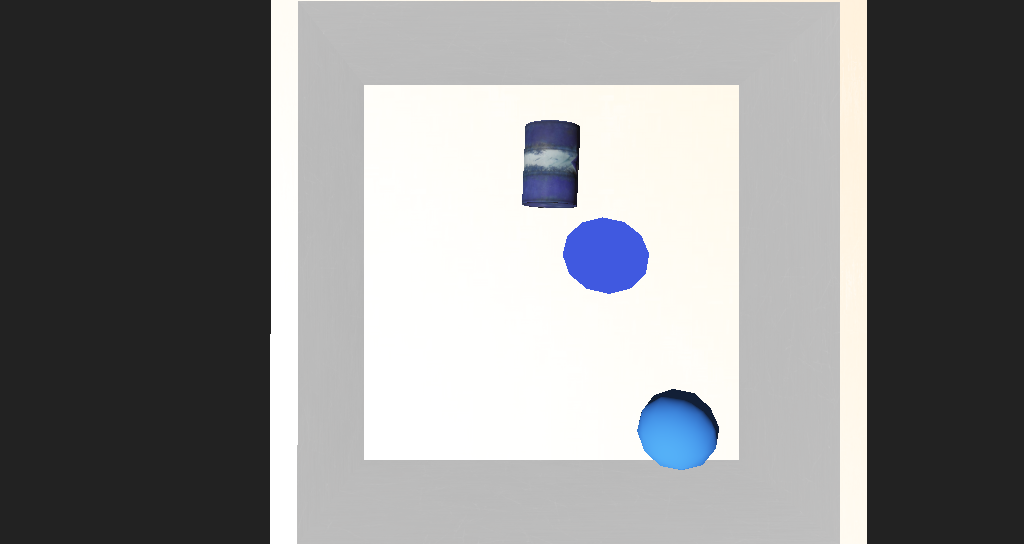cone: (482, 184, 529, 236)
cylinder: (515, 241, 576, 303)
sphere: (576, 336, 637, 379)
